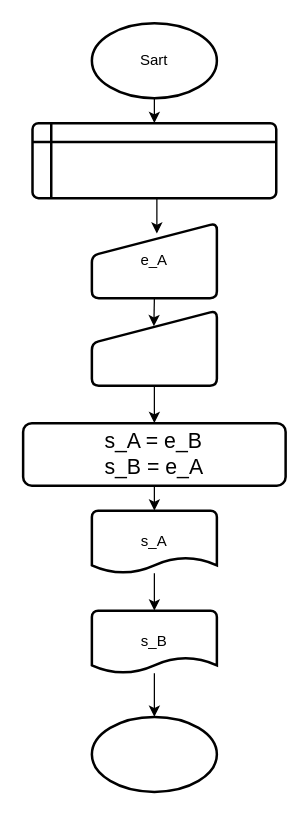
The diagram is 308 pixels wide and 814 high, and some of its shapes have lost their labels. The box of each missing label's shape, as (x1, y1, x2, y2) in pixels:
e_A, e_B, s_A, s_B: (31, 121, 277, 199)
e_B: (90, 309, 218, 386)
fim: (90, 715, 218, 792)
